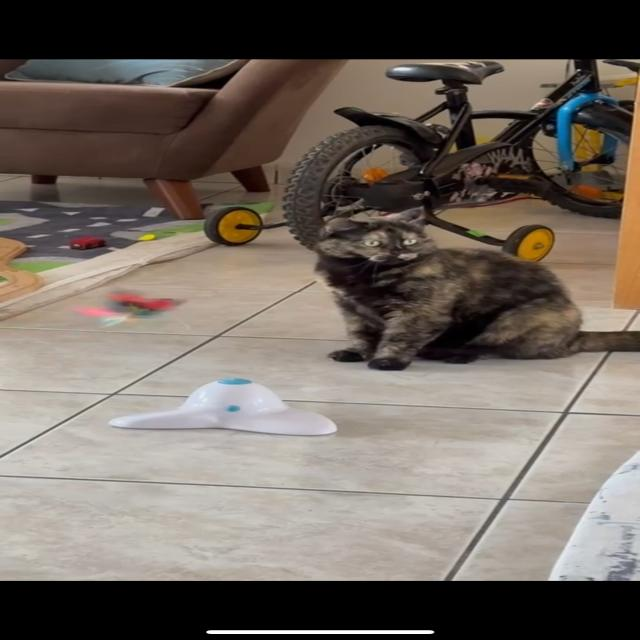authorized: (312, 206, 638, 371)
